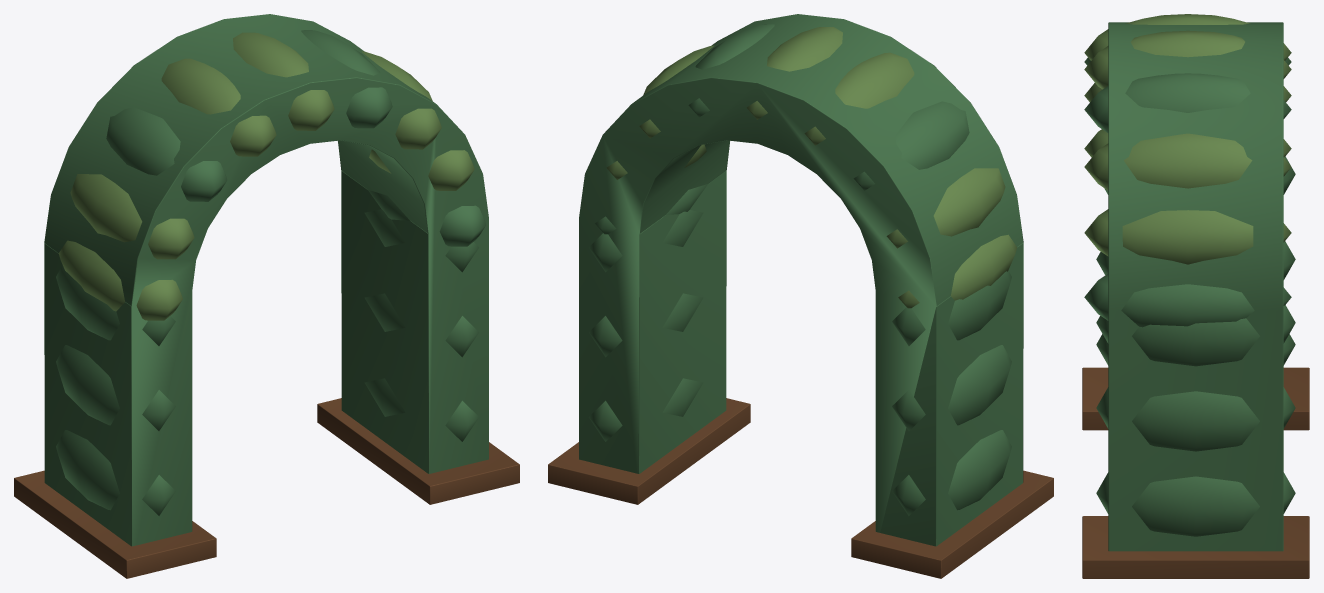
Rendered from S069_hedge_arch_rebuilt.glb.
3 views of the same model, side by side, from view 1: azimuth 30°, elevation 25°; view 2: azimuth 150°, elevation 25°; view 3: azimuth 270°, elevation 25° (orthographic).
Parts seen in each view (by area): view 1: Broad_leaf_midgreen, Young_leaf_lighter_green, Oak_end_and_edge.001; view 2: Broad_leaf_midgreen, Oak_end_and_edge.001, Young_leaf_lighter_green; view 3: Broad_leaf_midgreen, Young_leaf_lighter_green, Oak_end_and_edge.001.
Boxes of the visible parts, x1,y1,x2,y2 form: Broad_leaf_midgreen: [44, 14, 488, 546]; Young_leaf_lighter_green: [58, 32, 474, 320]; Oak_end_and_edge.001: [14, 398, 519, 578]; Broad_leaf_midgreen: [579, 14, 1023, 546]; Oak_end_and_edge.001: [548, 398, 1053, 578]; Young_leaf_lighter_green: [606, 27, 1017, 308]; Broad_leaf_midgreen: [1084, 22, 1295, 551]; Young_leaf_lighter_green: [1084, 14, 1291, 264]; Oak_end_and_edge.001: [1082, 367, 1309, 578].
Bounding box in the file's own units: 2.6 × 2.81 × 1.3.
